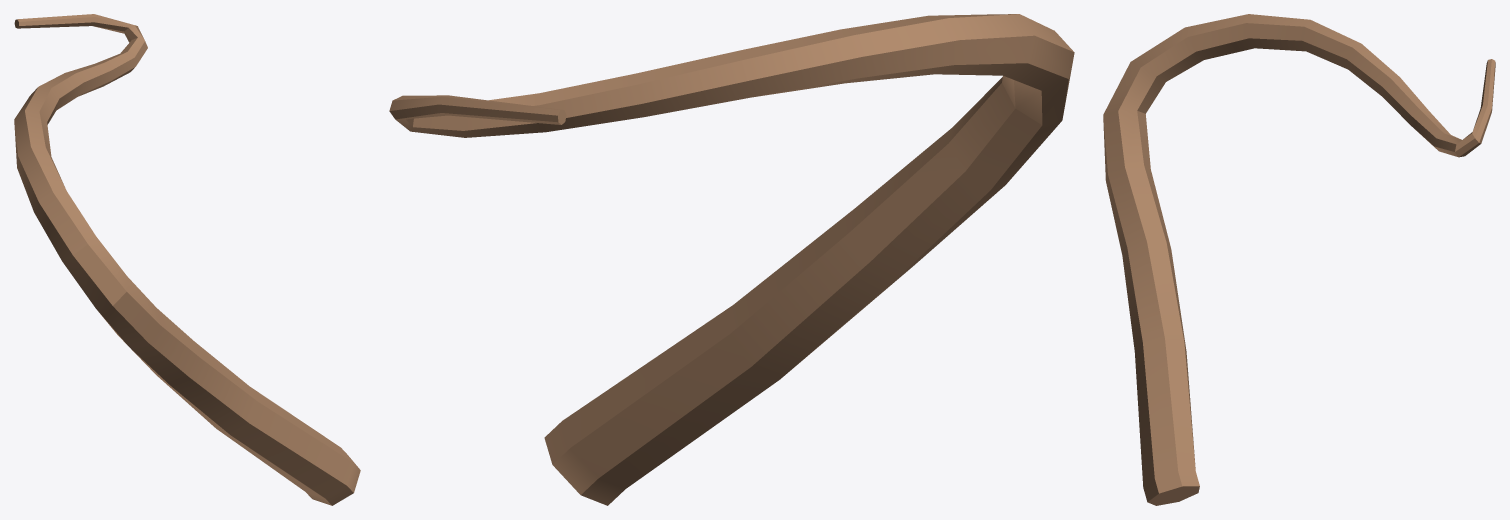
Rendered from Root end 2.fbx.
The picture shows the model from 3 angles, left to right: view 1: azimuth 30°, elevation 25°; view 2: azimuth 150°, elevation 25°; view 3: azimuth 270°, elevation 25°; orthographic projection. The views are drawn at different scales.
Visible parts, largest first — view 1: pCylinder7; view 2: pCylinder7; view 3: pCylinder7.
Part boxes in pixels (bbox=[...]): pCylinder7: bbox=[14, 14, 360, 505]; pCylinder7: bbox=[389, 14, 1074, 505]; pCylinder7: bbox=[1103, 14, 1495, 505].
Size of the model in its own units: 3.71 by 4.56 by 4.27.
